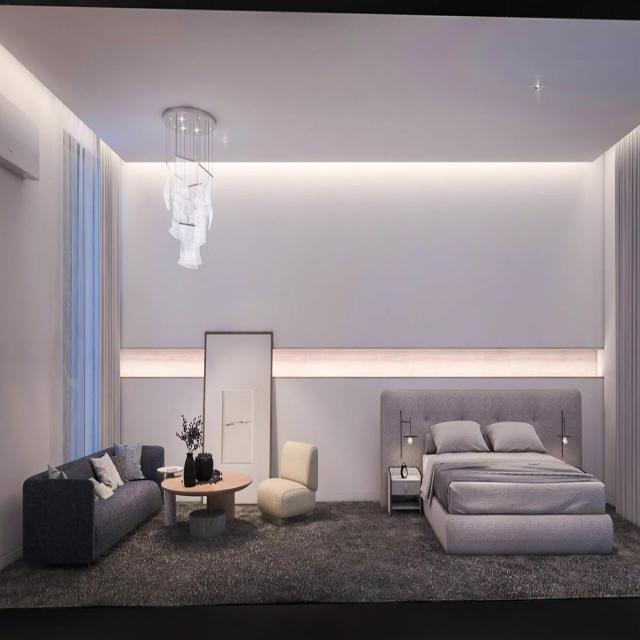obstacle: (425, 422, 614, 558), (22, 442, 165, 567), (160, 470, 252, 532), (256, 440, 318, 525)
